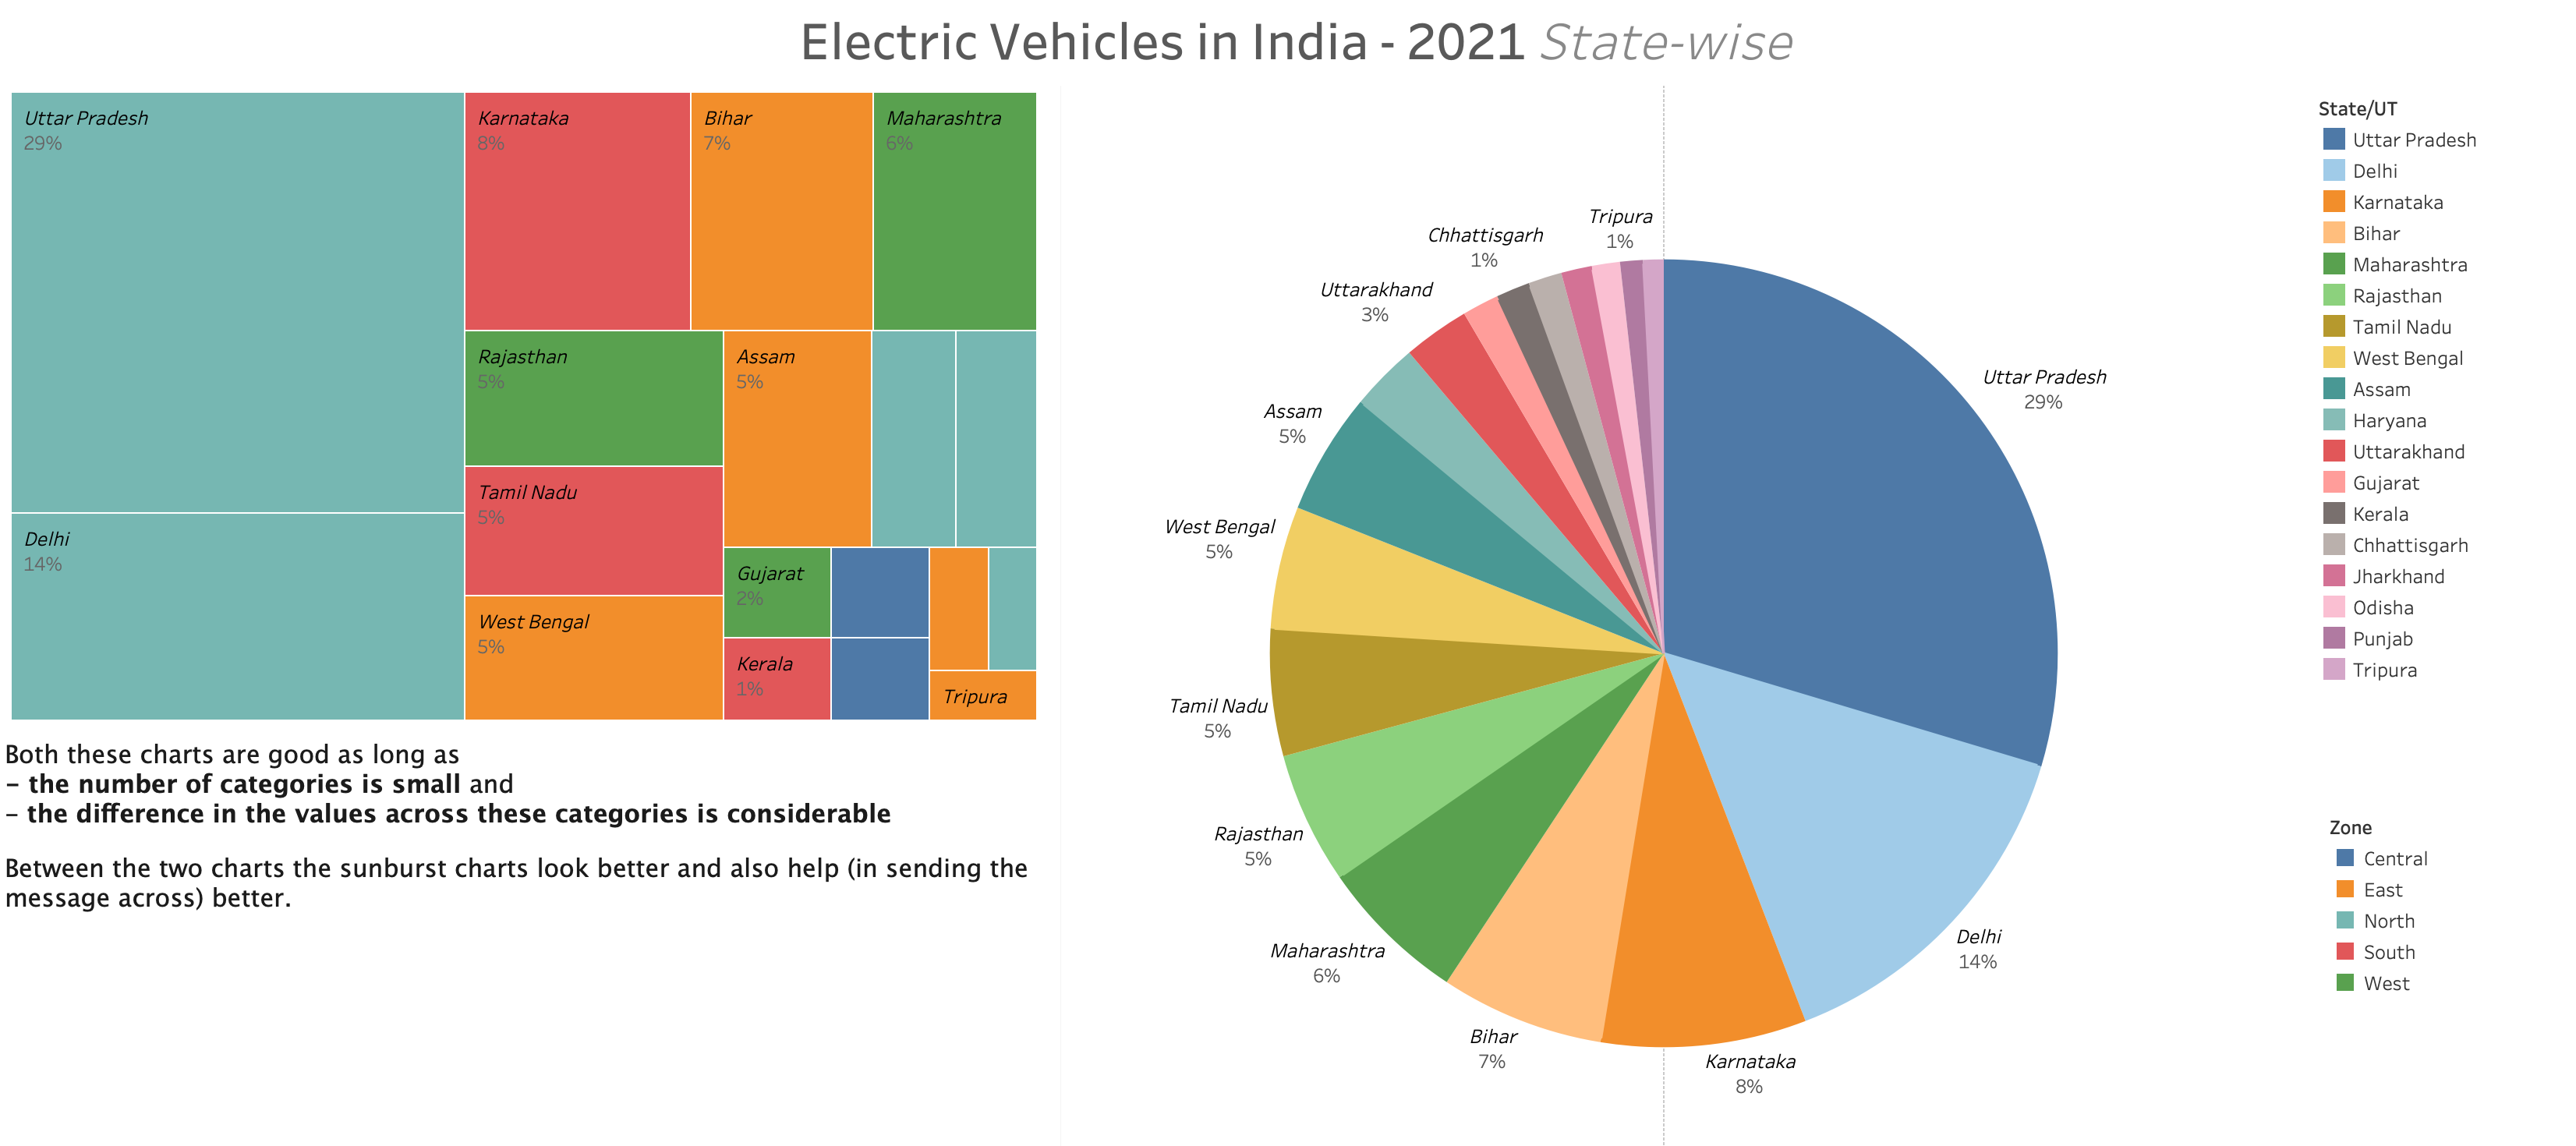

The page's visual inventory and layout, read from the dashboard file:
{"tool":"tableau","page":{"name":"State-wise","canvas":[1000,1000],"units":"permille","ordinal":0},"visuals":[{"type":"title","box":[5.5,9.5,989.1,62.8]},{"type":"worksheet","title":"TM2","mark":"Automatic","box":[6.8,62.8,396.2,713.3]},{"type":"worksheet","title":"SB2","mark":"Pie","cols":["Calculation_6422555299345653766"],"box":[409.8,62.8,460.9,713.3]},{"type":"legend","title":"SB2","param":"[federated.1h4i9200o41wzu14zfeil0i64jp7].[none:State/UT:nk]","box":[889.7,68.7,111,465.6]}]}

Visuals, with their boxes on the dashboard's canvas, which has no fixed pixel size, in thousandths of its width and height (x1, y1, x2, y2). These are canvas units, not pixel positions in the 2576x1146 screenshot, which may show the page scaled, cropped or inside an application window:
title: (6, 10, 995, 72)
"TM2" worksheet: (7, 63, 403, 776)
"SB2" worksheet (Pie marks): (410, 63, 871, 776)
"SB2" legend: (890, 69, 1001, 534)
